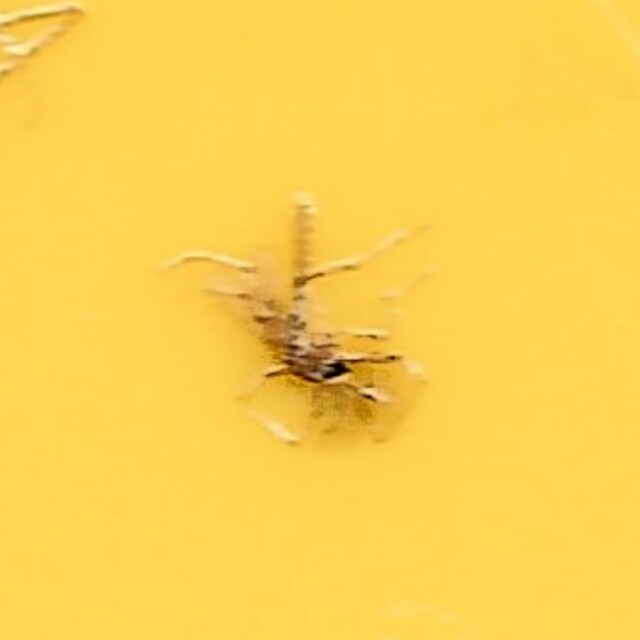Nematocera: (199, 188, 441, 452)
